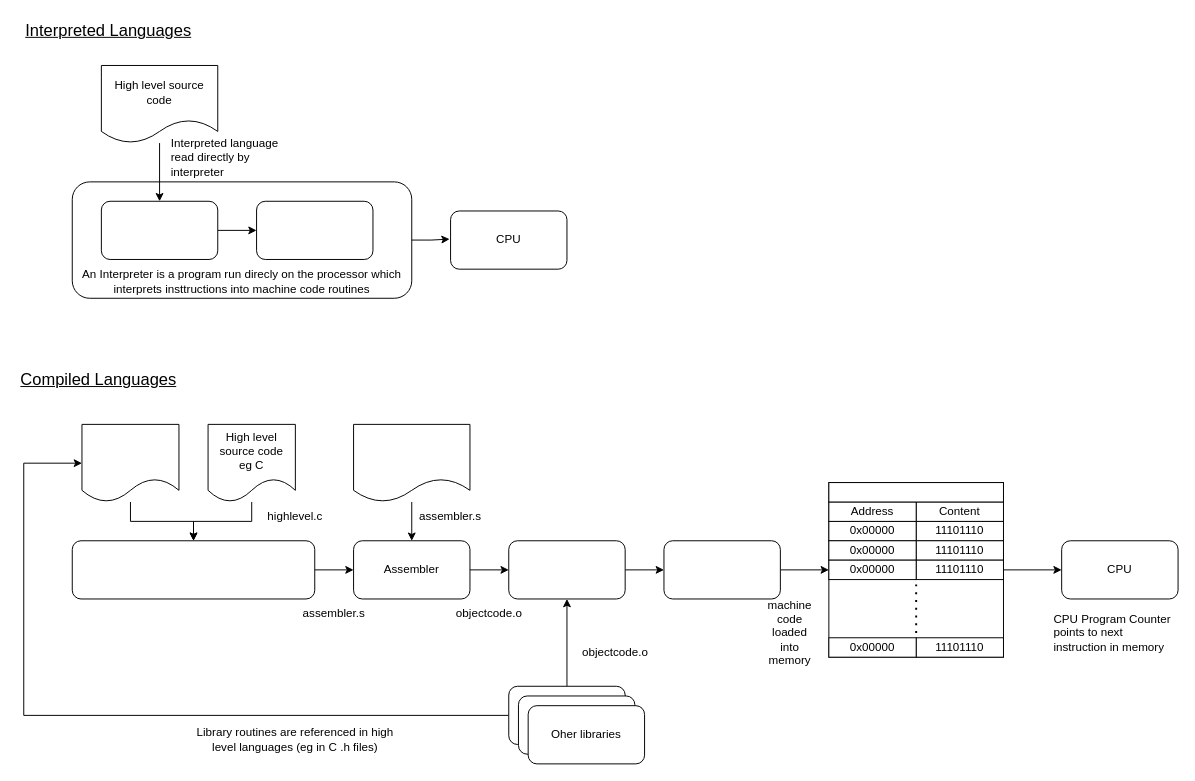
This 1195x781 diagram has some shape labels left out. Here are the shapes that lost their labels. From the top down, the box of each, then its label:
(100, 200, 218, 259): interpreter
(256, 200, 373, 259): machine code routines
(81, 423, 179, 502): references to libraries eg in C .h files
(353, 423, 470, 502): Assembler code assembler.s
(828, 482, 1003, 502): Memory
(71, 540, 315, 599): compiler
(508, 540, 625, 599): linker
(663, 540, 780, 599): loader
